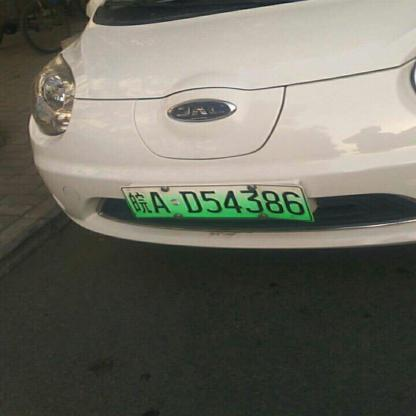lp: (121, 186, 314, 221)
